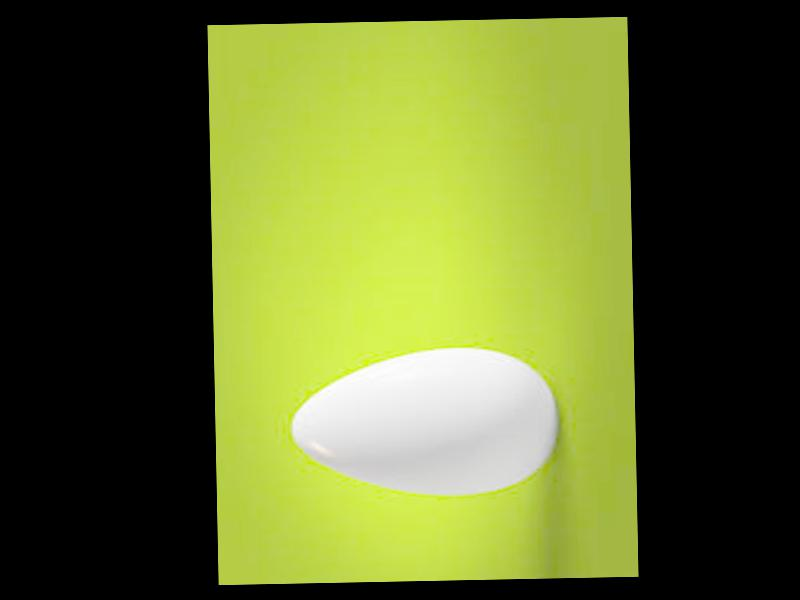Eggs: (286, 346, 557, 497)
